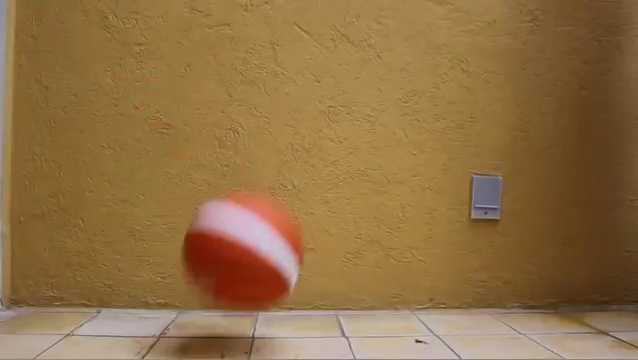ball: (183, 192, 303, 317)
